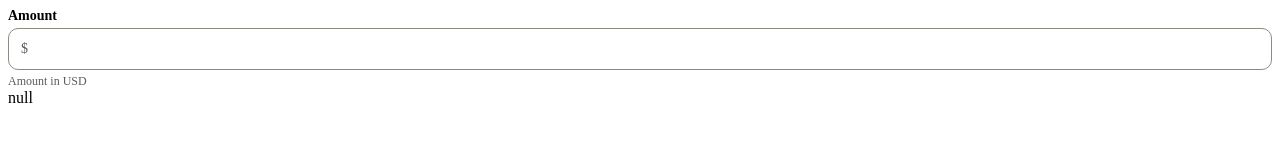
Test case: MoneyInput › shows an error instead of rounding extra decimals
Type "10.999" into the field labelled "Amount". click: coordinates (650, 49)
box: [28, 32, 1271, 66]
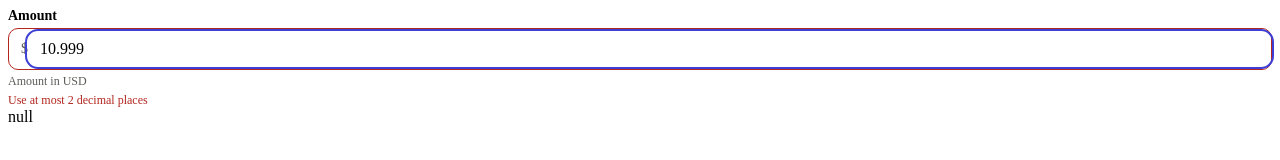
Expected: the text with test id "cents" reads "null", [8, 108, 33, 125]
Expected: the message reads "Use at most 2 decimal places", [8, 93, 148, 107]
